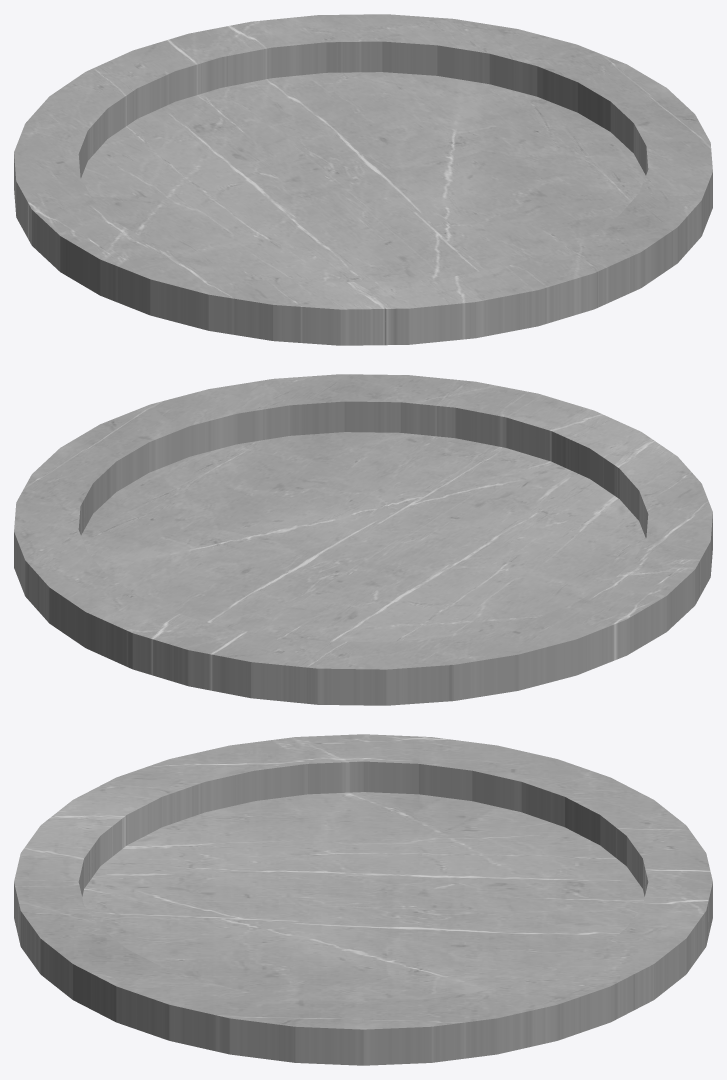
File: fountain-01.glb
The picture shows the model from 3 angles, top to bottom: view 1: azimuth 30°, elevation 25°; view 2: azimuth 150°, elevation 25°; view 3: azimuth 270°, elevation 25°; orthographic projection.
Parts seen in each view (by area): view 1: Circle.001; view 2: Circle.001; view 3: Circle.001.
Boxes of the visible parts, box(x1,y1,x2,y2) form: Circle.001: box(14, 14, 712, 345); Circle.001: box(14, 374, 712, 705); Circle.001: box(14, 734, 712, 1065).
Bounding box in the file's own units: 11.05 × 0.6303 × 11.05.
Materials: 1 (1 with a texture image).
